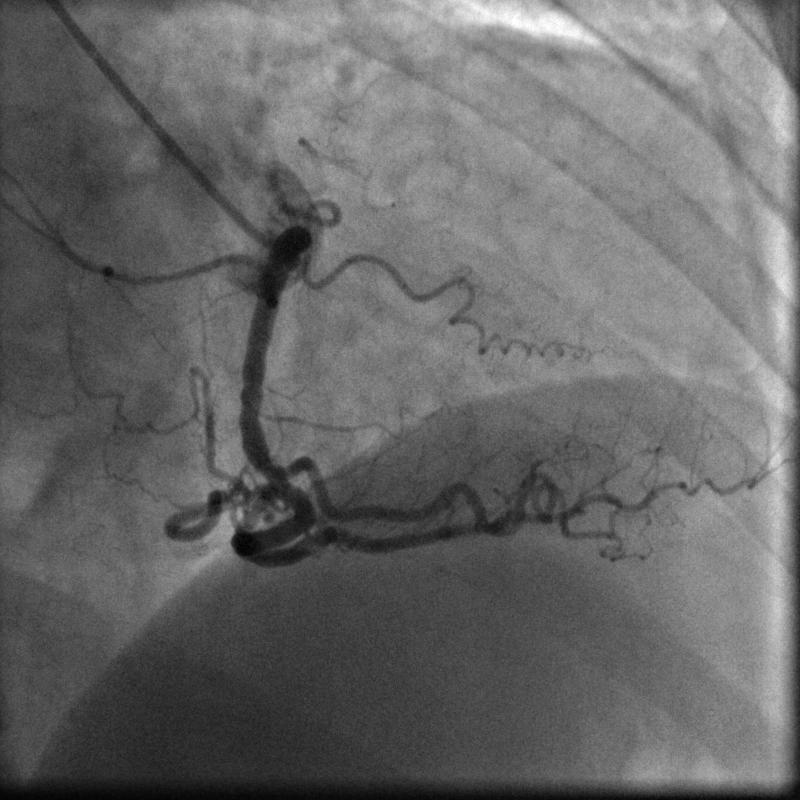Stenosis: (246, 457, 305, 489)
